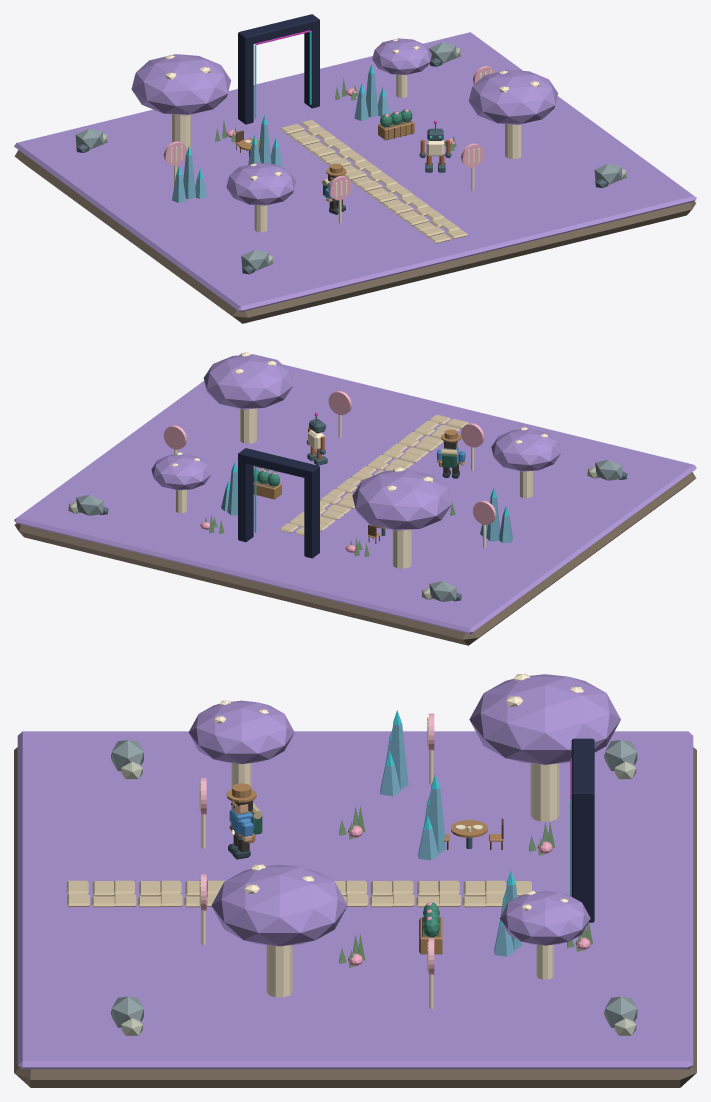
Rendered from world-dream.glb.
3 renders of one model, top to bottom at view 1: azimuth 30°, elevation 25°; view 2: azimuth 150°, elevation 25°; view 3: azimuth 270°, elevation 25°, orthographic. The views are drawn at different scales.
Visible parts, largest first — view 1: terrain-top, terrain-stratum, mushroom-cap.003, mushroom-cap.002, mushroom-cap.001, mushroom-cap.004, portal-pillar.002, portal-lintel.001, portal-pillar.003, stem.002, stem.003; view 2: terrain-top, terrain-stratum, mushroom-cap.003, mushroom-cap.002, mushroom-cap.001, mushroom-cap.004, portal-pillar.002, portal-pillar.003, portal-lintel.001, stem.003, stem.002, rock.003 (+4 smaller); view 3: terrain-top, terrain-stratum, mushroom-cap.003, mushroom-cap.002, mushroom-cap.001, mushroom-cap.004, portal-pillar.003, stem.003, portal-lintel.001, stem.002, crystal.010, crystal.004 (+4 smaller).
Part boxes in pixels (x1,y1,x2,y2): terrain-top: [14, 32, 696, 312]; terrain-stratum: [14, 150, 695, 323]; mushroom-cap.003: [131, 54, 230, 115]; mushroom-cap.002: [468, 69, 558, 124]; mushroom-cap.001: [226, 162, 295, 205]; mushroom-cap.004: [372, 38, 431, 75]; portal-pillar.002: [238, 38, 253, 124]; portal-lintel.001: [238, 14, 319, 44]; portal-pillar.003: [304, 24, 319, 108]; stem.002: [505, 124, 521, 159]; stem.003: [172, 114, 190, 150]; terrain-top: [14, 354, 696, 634]; terrain-stratum: [15, 472, 696, 645]; mushroom-cap.003: [352, 469, 451, 530]; mushroom-cap.002: [203, 354, 293, 409]; mushroom-cap.001: [491, 428, 560, 471]; mushroom-cap.004: [151, 453, 211, 490]; portal-pillar.002: [304, 472, 319, 558]; portal-pillar.003: [238, 458, 253, 542]; portal-lintel.001: [238, 448, 319, 478]; stem.003: [392, 529, 411, 568]; stem.002: [240, 408, 256, 443]; rock.003: [595, 459, 622, 480]; terrain-top: [17, 731, 693, 1069]; terrain-stratum: [14, 747, 696, 1087]; mushroom-cap.003: [469, 674, 620, 764]; mushroom-cap.002: [211, 864, 347, 946]; mushroom-cap.001: [188, 700, 294, 763]; mushroom-cap.004: [500, 891, 590, 945]; portal-pillar.003: [571, 800, 594, 922]; stem.003: [530, 763, 559, 821]; portal-lintel.001: [571, 738, 594, 804]; stem.002: [266, 945, 292, 997]; crystal.010: [390, 723, 408, 789]; crystal.004: [428, 787, 446, 853].
Size of the model in its own units: 21 by 4.69 by 18.
